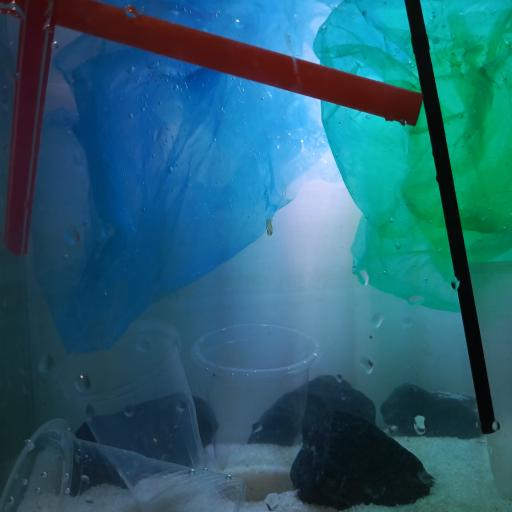plastic_bag: (45, 0, 322, 356), (311, 0, 512, 316)
plastic_cup: (56, 320, 210, 512), (189, 322, 320, 505), (0, 415, 244, 512)
plastic_straw: (2, 0, 424, 127), (404, 0, 500, 436), (2, 3, 56, 258)
